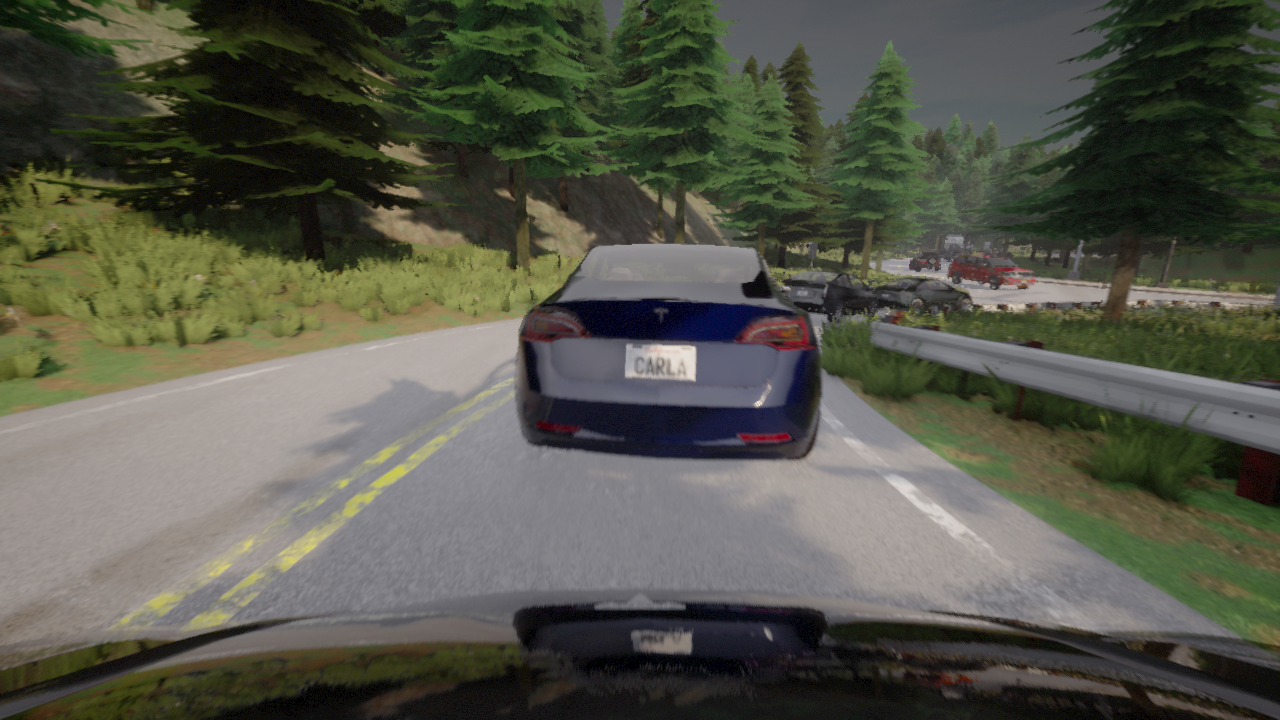cyclist: (0, 588, 1279, 719), (515, 243, 821, 460), (780, 271, 877, 323), (947, 254, 1035, 290), (873, 277, 972, 309), (929, 234, 976, 261), (910, 251, 939, 271), (771, 277, 792, 304), (978, 247, 1012, 257)
